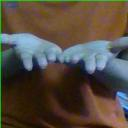hand: (1, 32, 64, 71), (64, 37, 128, 75)
